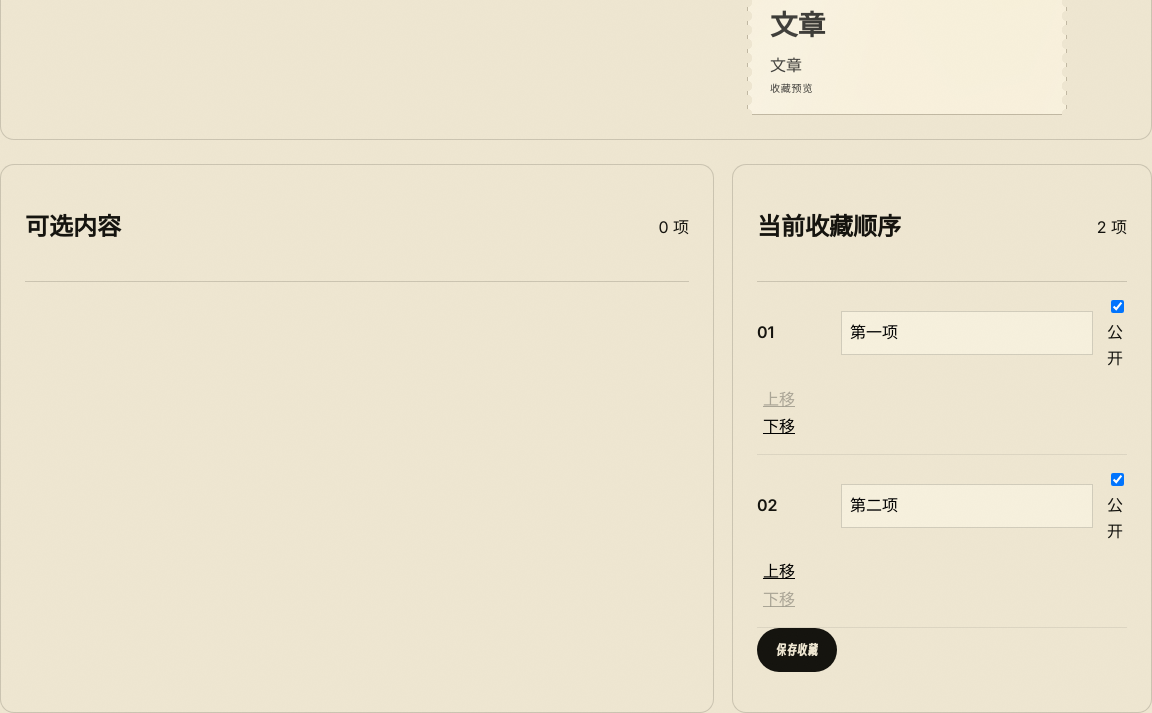
Test: AdminCollectionsPage draft hydration › keeps a reordered draft after the saved order is refreshed
Later steps or results of the test are not shown.
(page scrolled)
Click the button "保存收藏": (797, 650) [757,628,837,672]
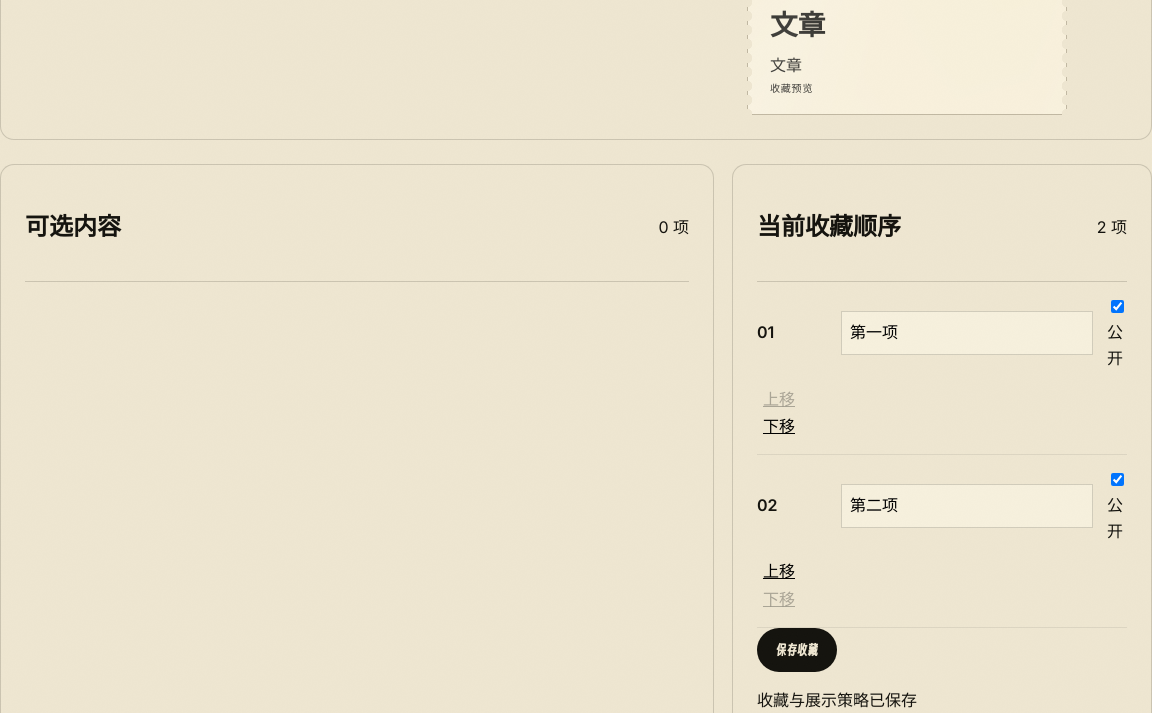
Expected: the text "收藏与展示策略已保存" is shown, [757,690,917,710]
